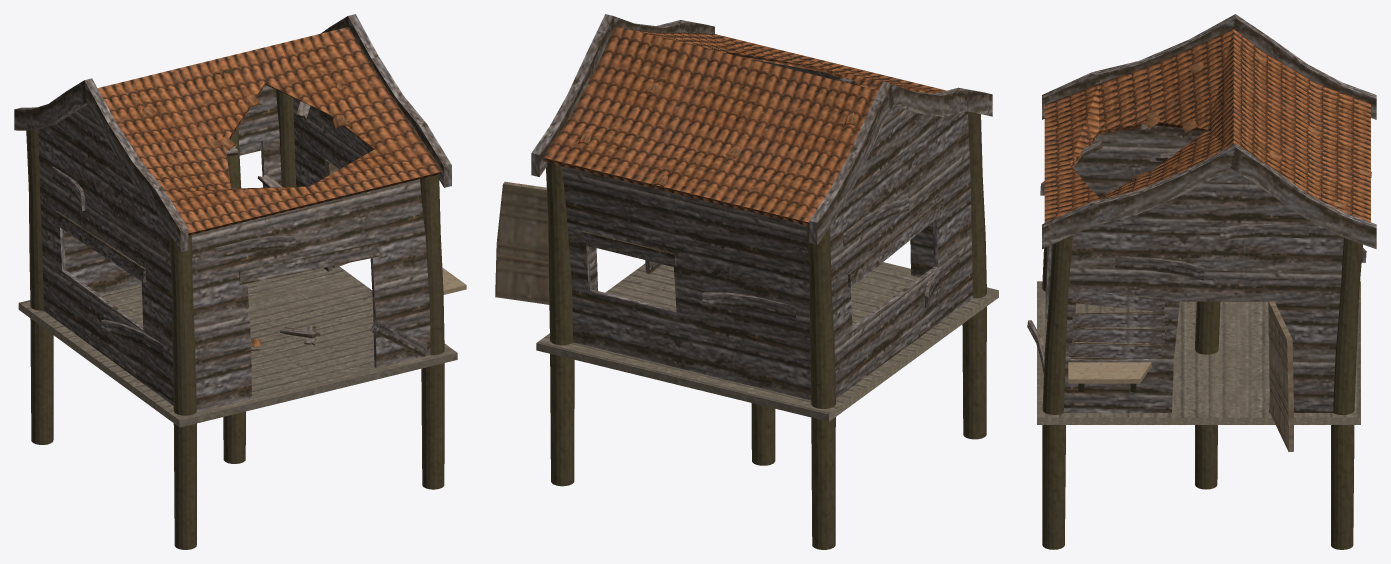
The model's file is Thorpe_hut_nodoor.fbx.
The picture shows the model from 3 angles, left to right: view 1: azimuth 30°, elevation 25°; view 2: azimuth 150°, elevation 25°; view 3: azimuth 270°, elevation 25°; orthographic projection. The views are drawn at different scales.
Parts seen in each view (by area): view 1: fishing_hut; view 2: fishing_hut; view 3: fishing_hut.
Part boxes in pixels (bbox=[...]): fishing_hut: bbox=[14, 14, 466, 549]; fishing_hut: bbox=[495, 14, 998, 549]; fishing_hut: bbox=[1027, 14, 1376, 549].
Bounding box in the file's own units: 901 × 967 × 758.
1 material, 1 textured.
